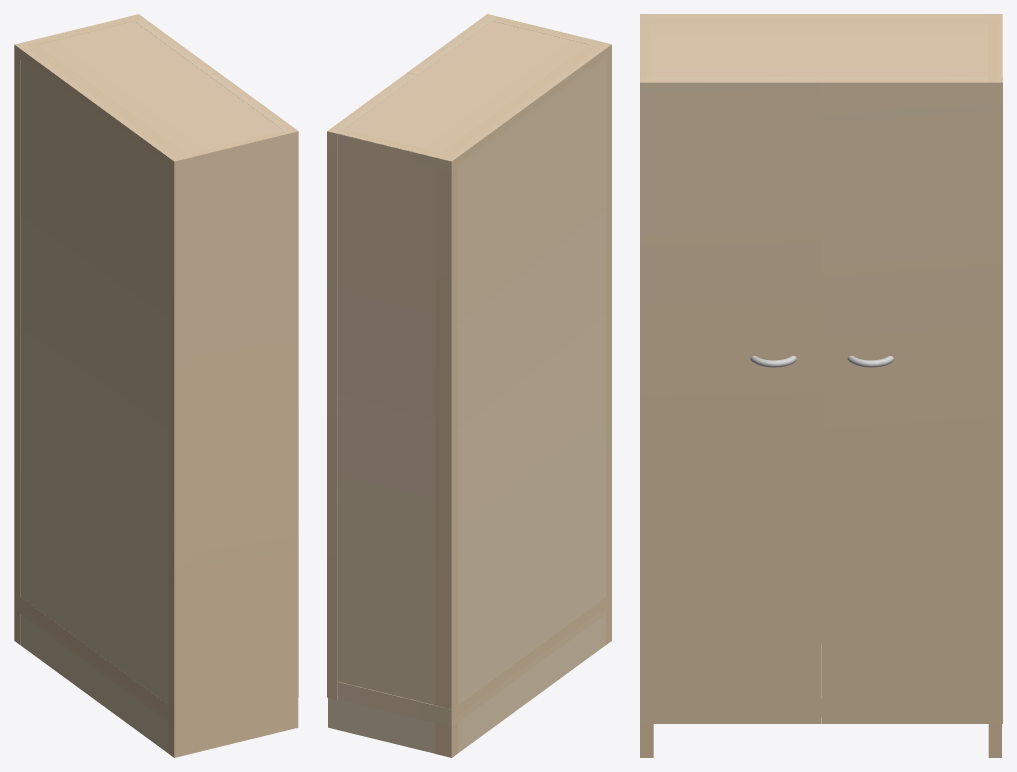
The model's file is cabinet.fbx.
The picture shows the model from 3 angles, left to right: view 1: azimuth 30°, elevation 25°; view 2: azimuth 150°, elevation 25°; view 3: azimuth 270°, elevation 25°; orthographic projection. The views are drawn at different scales.
Visible parts, largest first — view 1: polySurface1, polySurface7, polySurface6, polySurface2, polySurface5, polySurface4, polySurface3; view 2: polySurface1, polySurface2, polySurface6, polySurface3, polySurface5, polySurface7, polySurface4; view 3: polySurface4, polySurface3, polySurface6, polySurface1, polySurface7, polySurface2.
Boxes of the visible parts, x1,y1,x2,y2 form: polySurface1: (14, 41, 190, 757); polySurface7: (168, 128, 298, 757); polySurface6: (14, 16, 281, 171); polySurface2: (14, 14, 143, 644); polySurface5: (14, 593, 168, 721); polySurface4: (208, 72, 298, 696); polySurface3: (128, 14, 218, 74); polySurface1: (435, 40, 611, 757); polySurface2: (328, 127, 457, 757); polySurface6: (337, 21, 607, 172); polySurface3: (327, 72, 417, 699); polySurface5: (337, 593, 610, 726); polySurface7: (491, 15, 611, 644); polySurface4: (407, 14, 497, 74); polySurface4: (640, 77, 821, 723); polySurface3: (821, 77, 1002, 723); polySurface6: (653, 14, 1002, 94); polySurface1: (640, 14, 1002, 643); polySurface7: (640, 14, 653, 757); polySurface2: (988, 14, 1001, 757).
Bounding box in the file's own units: 1.32 × 5.52 × 2.69.
Materials: 1 (1 with a texture image).
